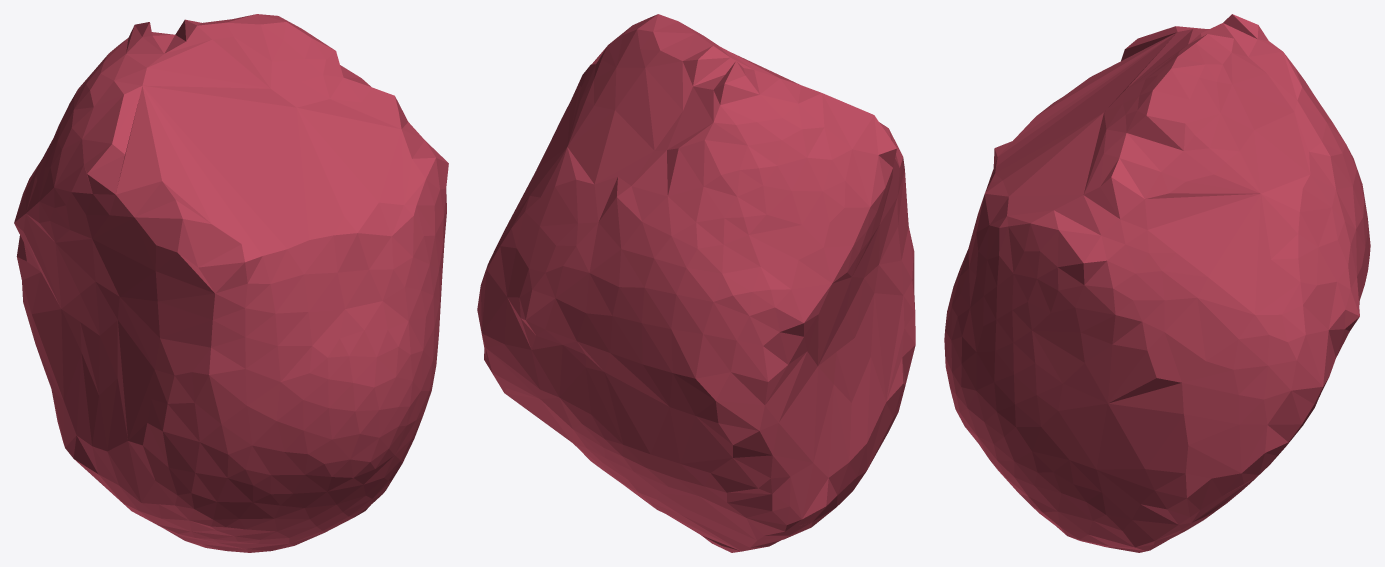
Rendered from Model_10625_LH__Lateral_vestibular_nucleus_(LVe).obj.
3 renders of one model, left to right at view 1: azimuth 30°, elevation 25°; view 2: azimuth 150°, elevation 25°; view 3: azimuth 270°, elevation 25°, orthographic. The views are drawn at different scales.
Bounding box in the file's own units: 1.11 × 1.57 × 1.21.
